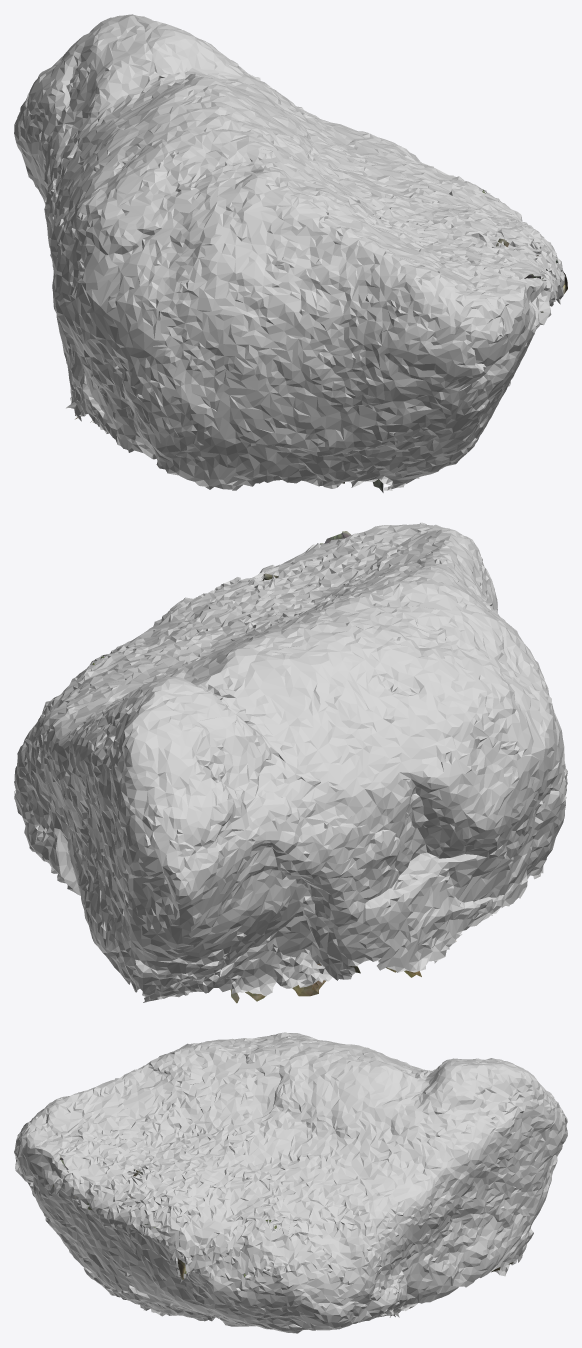
3 views of the same model, one above another, from view 1: azimuth 30°, elevation 25°; view 2: azimuth 150°, elevation 25°; view 3: azimuth 270°, elevation 25° (orthographic). The views are drawn at different scales.
Visible parts, largest first — view 1: Rock_Lowpoly; view 2: Rock_Lowpoly, Rock_Lowpoly_lambert3_0.001; view 3: Rock_Lowpoly.
Part boxes in pixels (x1,y1,x2,y2): Rock_Lowpoly: [14, 14, 565, 490]; Rock_Lowpoly: [14, 522, 567, 1002]; Rock_Lowpoly_lambert3_0.001: [92, 531, 456, 1003]; Rock_Lowpoly: [14, 1032, 567, 1333].
Bounding box in the file's own units: 14.15 × 9.1 × 19.94.
2 materials, 1 textured.
